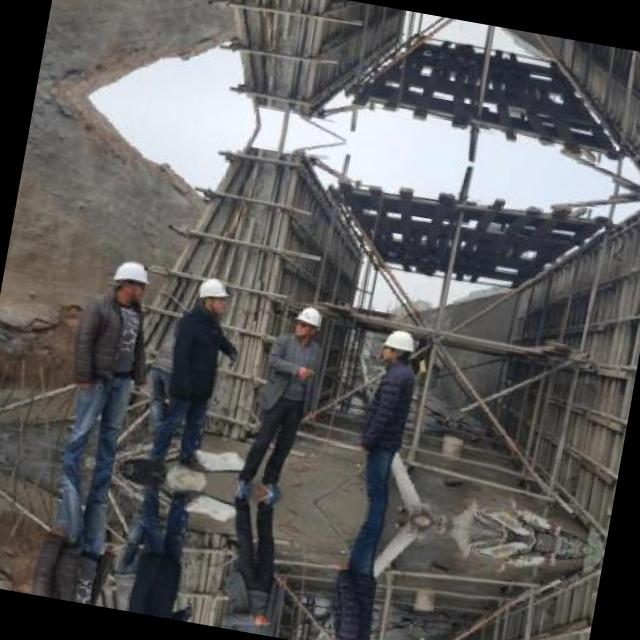helmet: (106, 254, 150, 306), (378, 322, 418, 364), (192, 272, 232, 314), (291, 302, 323, 343)
